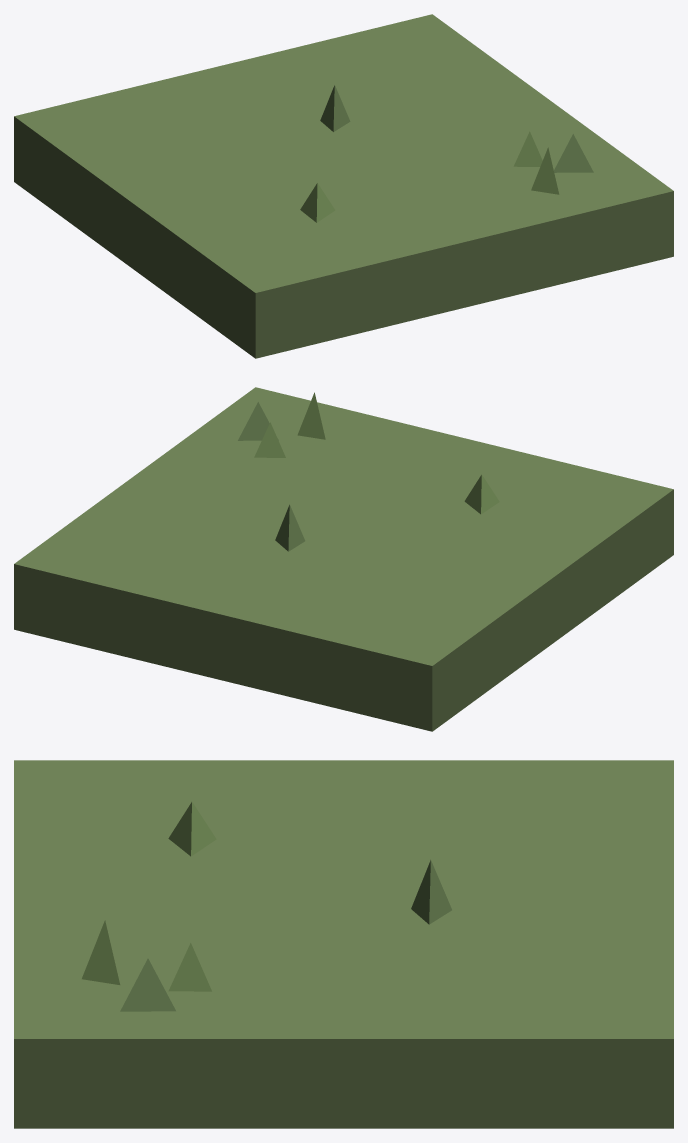
Rendered from t_grass.glb.
The picture shows the model from 3 angles, top to bottom: view 1: azimuth 30°, elevation 25°; view 2: azimuth 150°, elevation 25°; view 3: azimuth 270°, elevation 25°; orthographic projection. The views are drawn at different scales.
Parts seen in each view (by area): view 1: t_grass; view 2: t_grass; view 3: t_grass.
Boxes of the visible parts, x1,y1,x2,y2 form: t_grass: [14, 14, 673, 358]; t_grass: [14, 387, 673, 731]; t_grass: [14, 760, 673, 1128].
Bounding box in the file's own units: 2 × 0.493 × 2.
